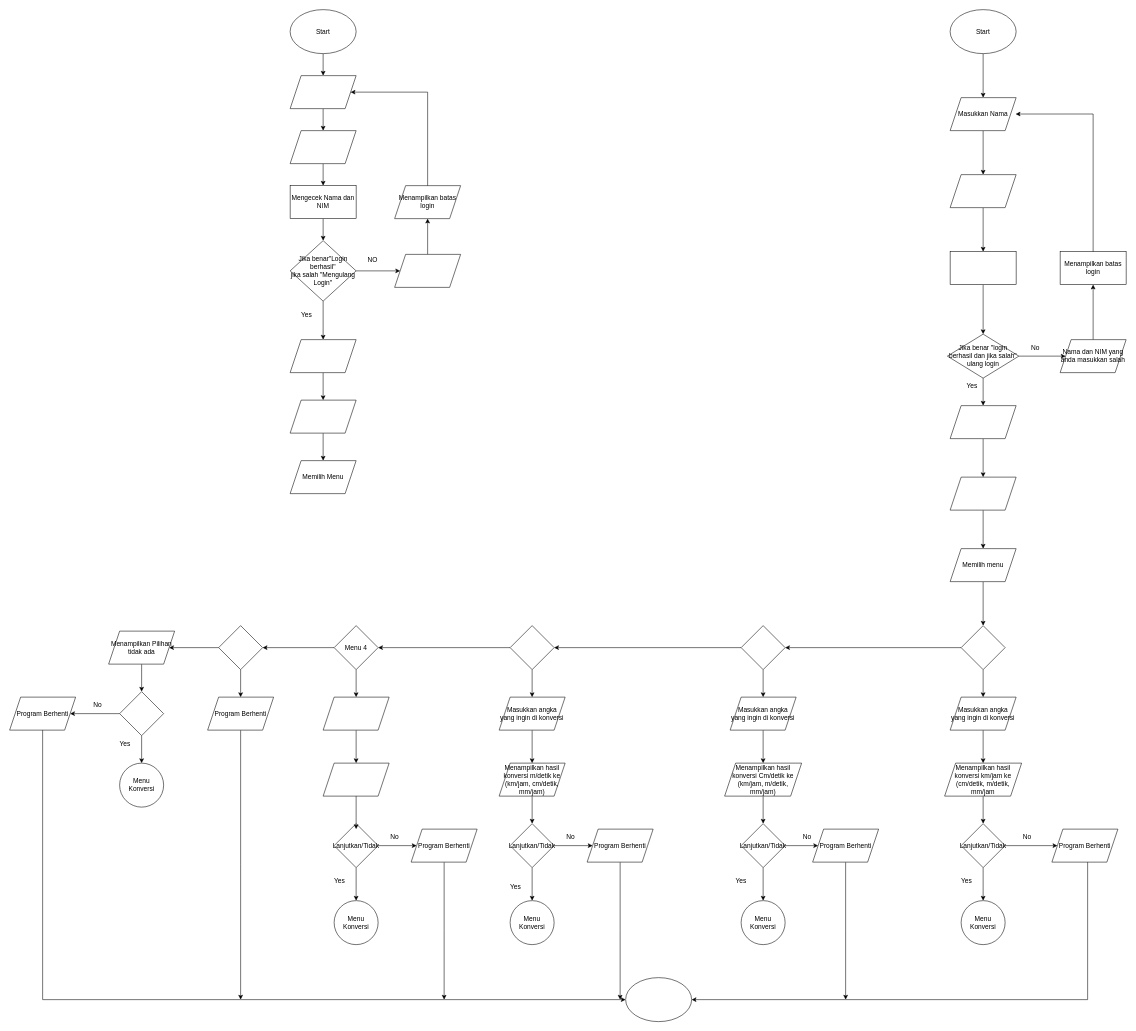
The diagram is 1136 pixels wide and 1031 high, and some of its shapes have lost their labels. Here are the shapes that lost their labels. From the top down, the box of each, then its label:
(290, 75, 356, 109): Login Masukkan Nama
(290, 130, 356, 164): Memasukkan NIM
(950, 174, 1016, 208): masukkan NIM
(394, 254, 461, 287): Nama atau NIM yang anda masukkan salah
(950, 251, 1016, 285): Cek Nama dan NIM
(290, 339, 356, 373): Menampilkan login berhasil
(290, 400, 356, 433): Menampilkan Menu
(950, 405, 1016, 439): Login berhasil
(950, 477, 1016, 510): Menampilkan menu konversi
(218, 625, 263, 670): Menu 5
(510, 625, 554, 670): Menu 3
(741, 625, 785, 670): Menu 2
(961, 625, 1005, 670): Menu 1
(119, 691, 164, 736): Lanjut/Tidak
(323, 697, 389, 730): Masukkan angka yang ingin dikonversi
(323, 763, 389, 796): Menampilkan hasil konversi mm/jam ke (km/jam, cm/detik, m/detik)
(625, 977, 692, 1022): End
